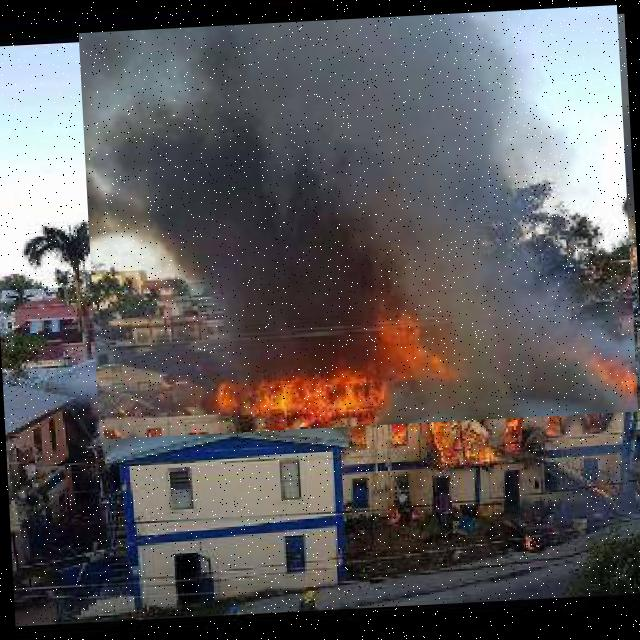fire: (79, 5, 638, 440)
